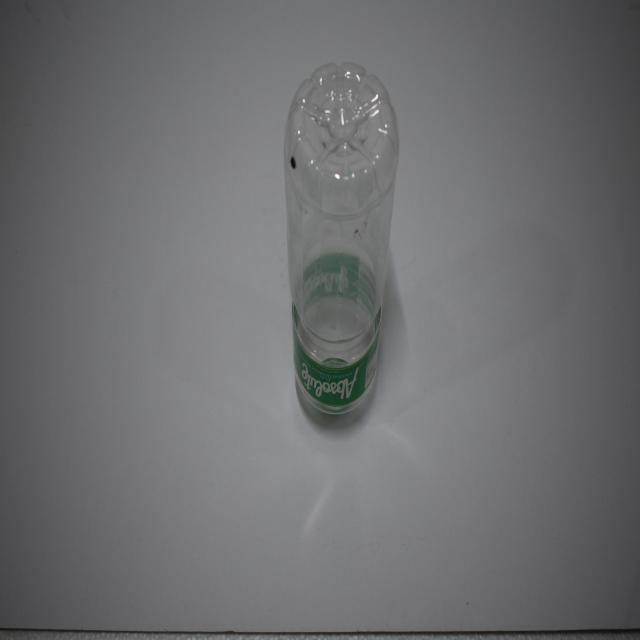empty: (284, 64, 398, 413)
